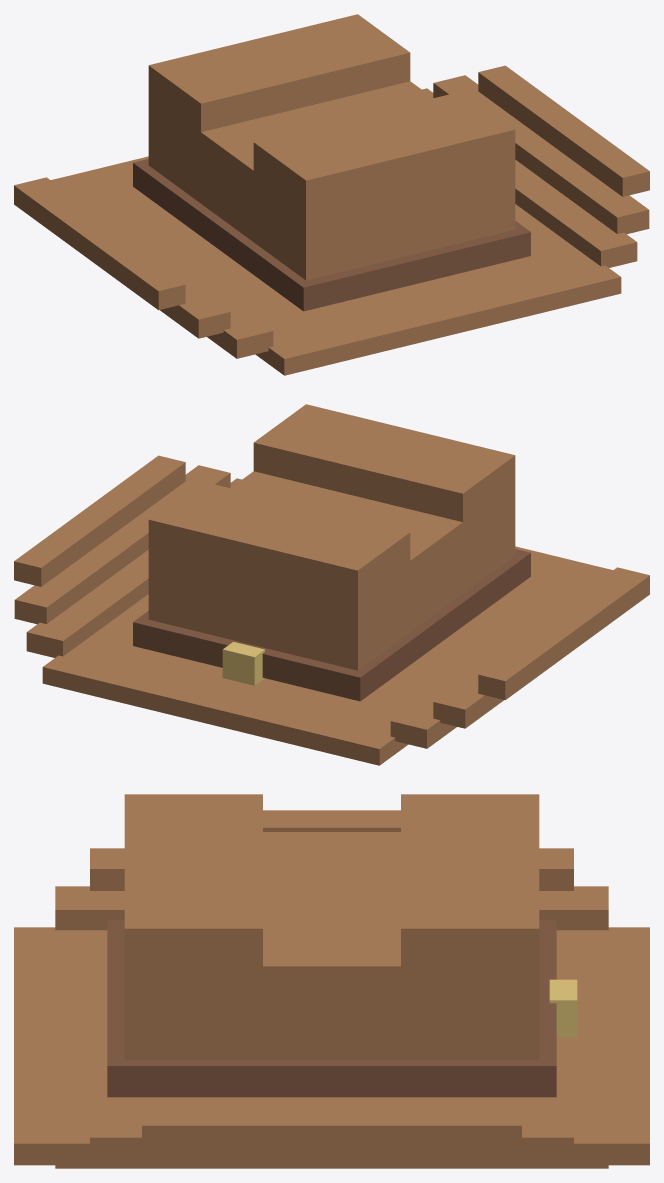
The model's file is chapeu_cauboi.glb.
3 views of the same model, one above another, from view 1: azimuth 30°, elevation 25°; view 2: azimuth 150°, elevation 25°; view 3: azimuth 270°, elevation 25° (orthographic). The views are drawn at different scales.
Parts seen in each view (by area): view 1: chapeu_cauboi; view 2: chapeu_cauboi; view 3: chapeu_cauboi.
Boxes of the visible parts, x1,y1,x2,y2 form: chapeu_cauboi: [14, 14, 649, 375]; chapeu_cauboi: [14, 404, 649, 765]; chapeu_cauboi: [14, 794, 649, 1168].
Bounding box in the file's own units: 1.08 × 0.3125 × 0.92.
